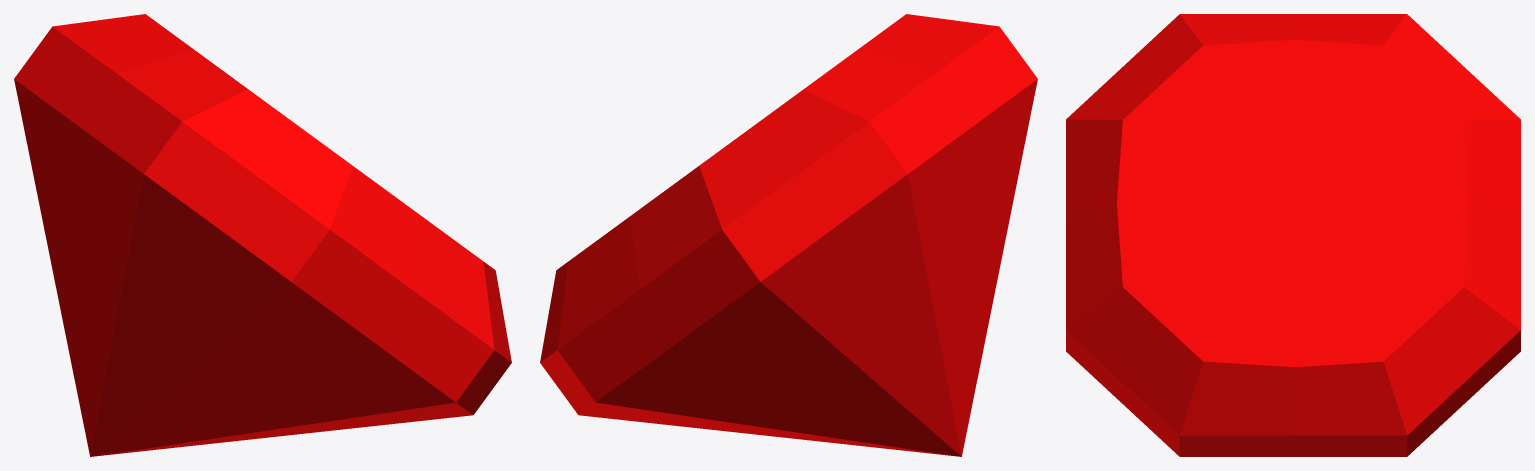
The model's file is diamante.fbx.
3 renders of one model, left to right at view 1: azimuth 30°, elevation 25°; view 2: azimuth 150°, elevation 25°; view 3: azimuth 270°, elevation 25°, orthographic. The views are drawn at different scales.
Parts seen in each view (by area): view 1: Gema; view 2: Gema; view 3: Gema.
Part boxes in pixels (box(x1,y1,x2,y2)): Gema: box(14, 14, 511, 456); Gema: box(540, 14, 1037, 456); Gema: box(1066, 14, 1520, 456).
Size of the model in its own units: 109 by 109 by 133.
Materials: 1 (1 with a texture image).
